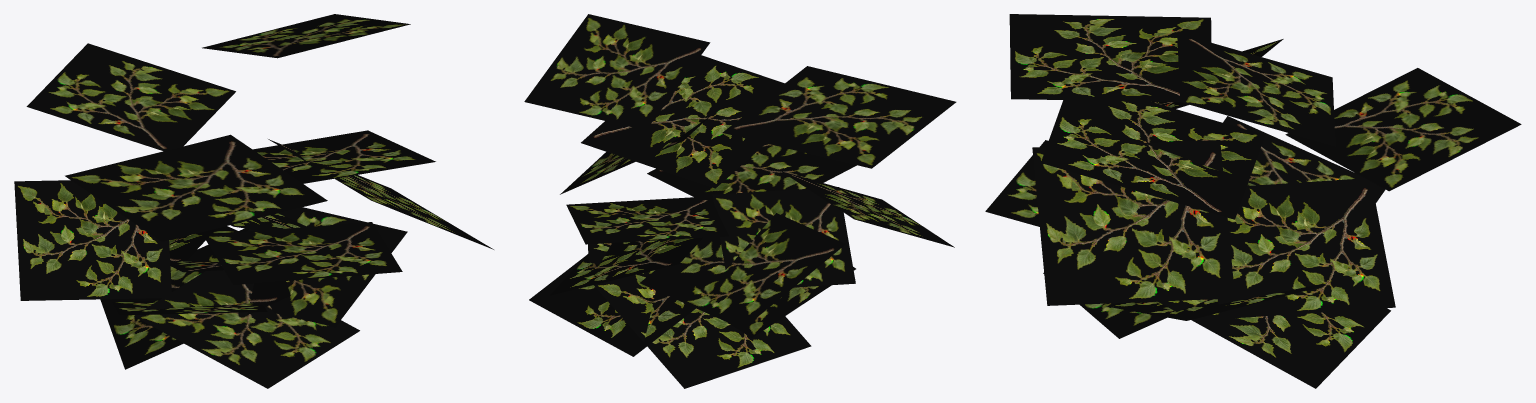
Rendered from hazel_bush_far.gltf.
3 views of the same model, side by side, from view 1: azimuth 30°, elevation 25°; view 2: azimuth 150°, elevation 25°; view 3: azimuth 270°, elevation 25° (orthographic). The views are drawn at different scales.
Parts seen in each view (by area): view 1: hazel_bush_far; view 2: hazel_bush_far; view 3: hazel_bush_far.
Boxes of the visible parts, <box> form: hazel_bush_far: <box>14,14,493,388</box>; hazel_bush_far: <box>524,14,956,388</box>; hazel_bush_far: <box>985,14,1521,388</box>.
Bounding box in the file's own units: 1.98 × 1.32 × 2.09.
1 material, 1 textured.
